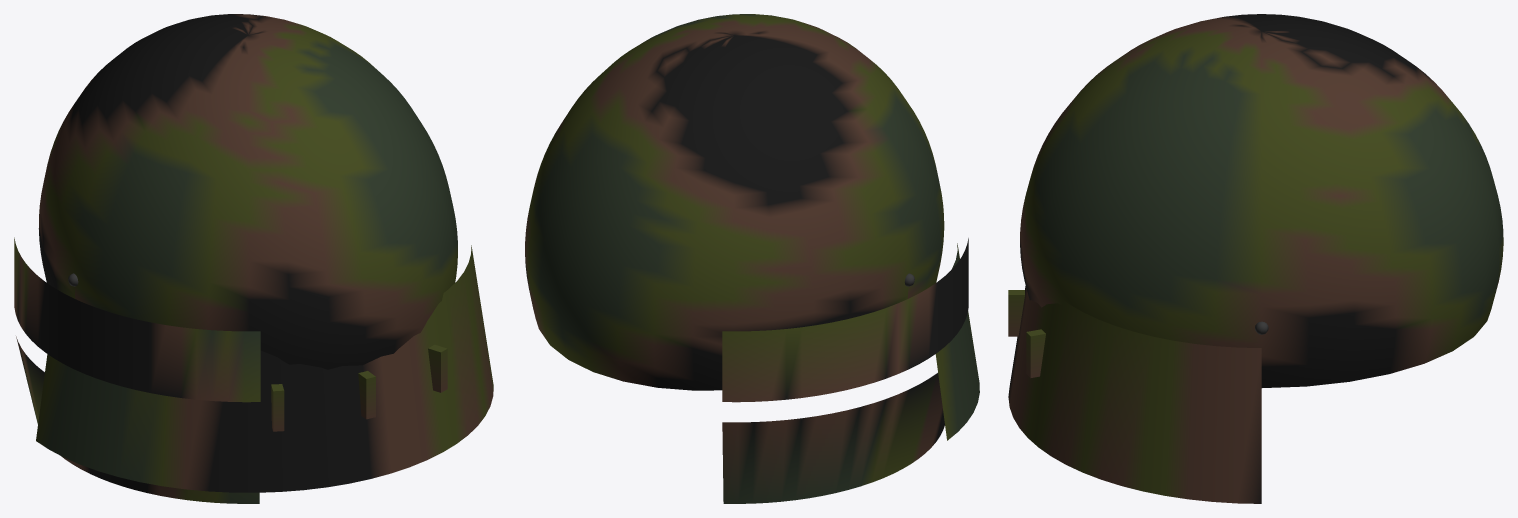
Rendered from helmet.glb.
The picture shows the model from 3 angles, left to right: view 1: azimuth 30°, elevation 25°; view 2: azimuth 150°, elevation 25°; view 3: azimuth 270°, elevation 25°; orthographic projection. The views are drawn at different scales.
Size of the model in its own units: 2.2 by 1.88 by 2.15.
